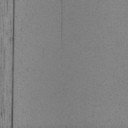surface scratch: (10, 0, 14, 128), (60, 2, 62, 39)
